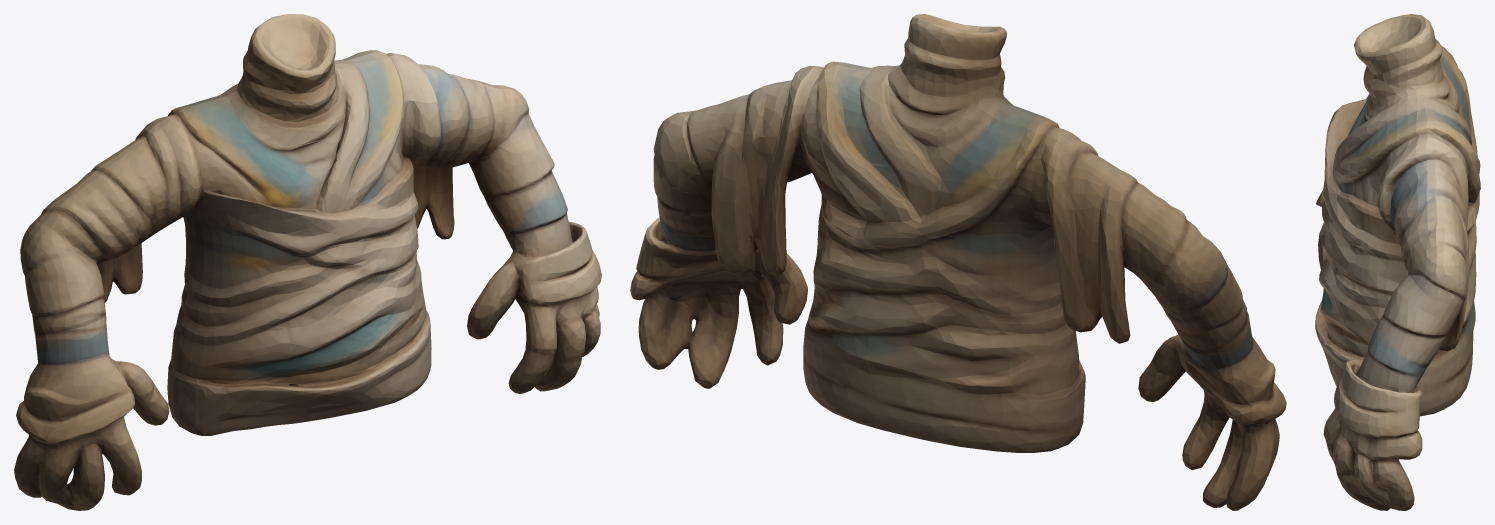
The model's file is mumia-body.glb.
3 renders of one model, left to right at view 1: azimuth 30°, elevation 25°; view 2: azimuth 150°, elevation 25°; view 3: azimuth 270°, elevation 25°, orthographic. The views are drawn at different scales.
Parts seen in each view (by area): view 1: world; view 2: world; view 3: world.
Boxes of the visible parts, x1,y1,x2,y2 form: world: (14, 14, 601, 510); world: (630, 14, 1286, 510); world: (1315, 14, 1480, 510).
Size of the model in its own units: 0.9994 by 0.6799 by 0.2683.
1 material, 1 textured.
